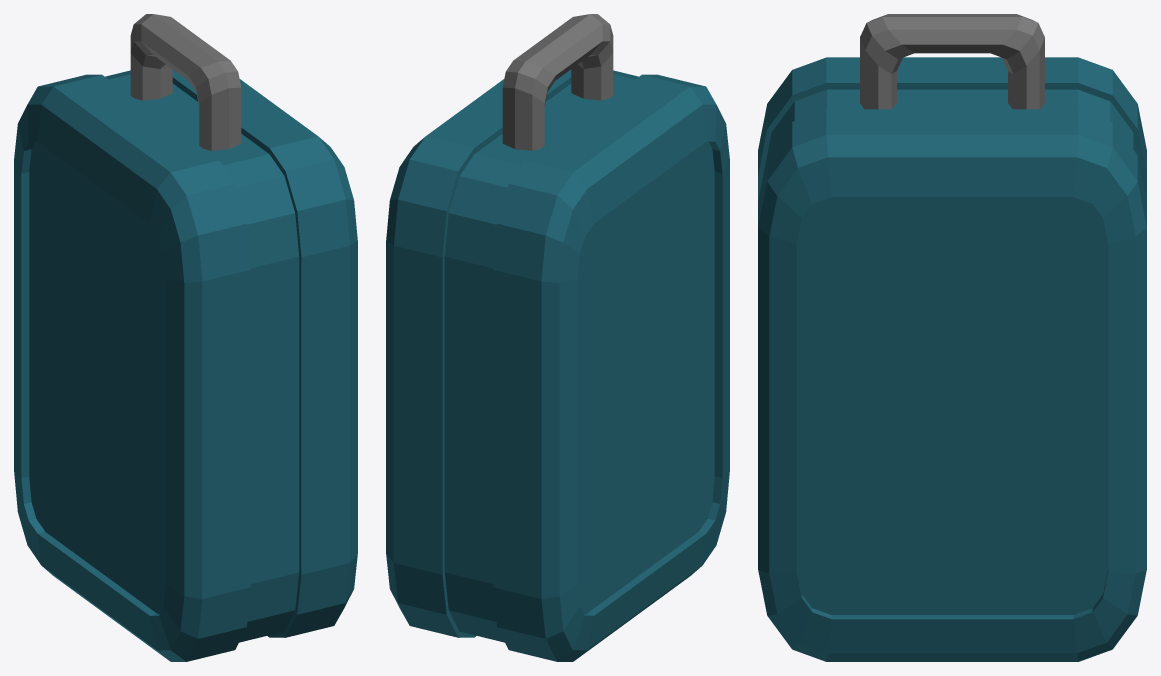
Rendered from Luggage 1.fbx.
3 views of the same model, side by side, from view 1: azimuth 30°, elevation 25°; view 2: azimuth 150°, elevation 25°; view 3: azimuth 270°, elevation 25° (orthographic). The views are drawn at different scales.
Visible parts, largest first — view 1: Cube, Torus; view 2: Cube, Torus; view 3: Cube, Torus.
Part boxes in pixels (left/top/right/bottom): Cube: left=14, top=69, right=357, bottom=661; Torus: left=130, top=14, right=241, bottom=150; Cube: left=386, top=69, right=729, bottom=661; Torus: left=502, top=14, right=613, bottom=150; Cube: left=758, top=57, right=1146, bottom=661; Torus: left=860, top=14, right=1044, bottom=109.
Size of the model in its own units: 78.82 by 230 by 134.
